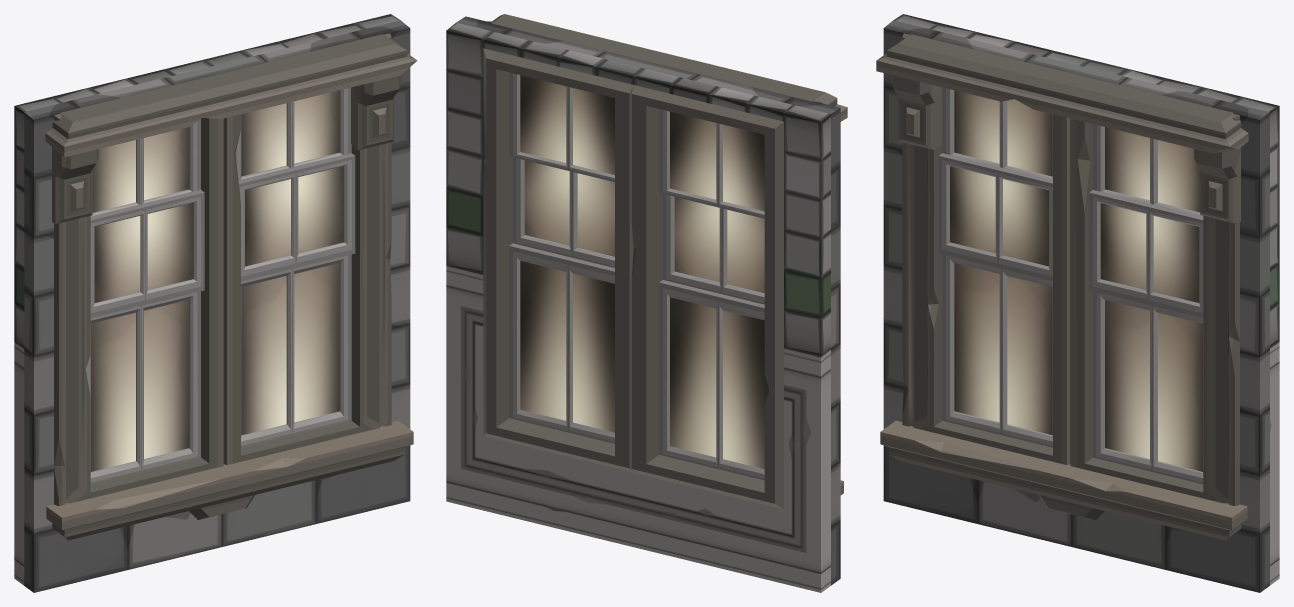
The model's file is SM_Bld_Wall_Window_Tall_03.fbx.
3 views of the same model, side by side, from view 1: azimuth 30°, elevation 25°; view 2: azimuth 150°, elevation 25°; view 3: azimuth 330°, elevation 25° (orthographic).
Visible parts, largest first — view 1: SM_Bld_Wall_Window_Tall_03, SM_Bld_Wall_Window_Tall_03_Glass; view 2: SM_Bld_Wall_Window_Tall_03, SM_Bld_Wall_Window_Tall_03_Glass; view 3: SM_Bld_Wall_Window_Tall_03, SM_Bld_Wall_Window_Tall_03_Glass.
Part boxes in pixels (x1,y1,x2,y2): SM_Bld_Wall_Window_Tall_03: [14, 14, 417, 592]; SM_Bld_Wall_Window_Tall_03_Glass: [91, 90, 343, 471]; SM_Bld_Wall_Window_Tall_03: [446, 14, 847, 592]; SM_Bld_Wall_Window_Tall_03_Glass: [520, 75, 768, 469]; SM_Bld_Wall_Window_Tall_03: [876, 14, 1279, 592]; SM_Bld_Wall_Window_Tall_03_Glass: [950, 90, 1202, 471].
Bounding box in the file's own units: 250 × 301 × 47.51.
